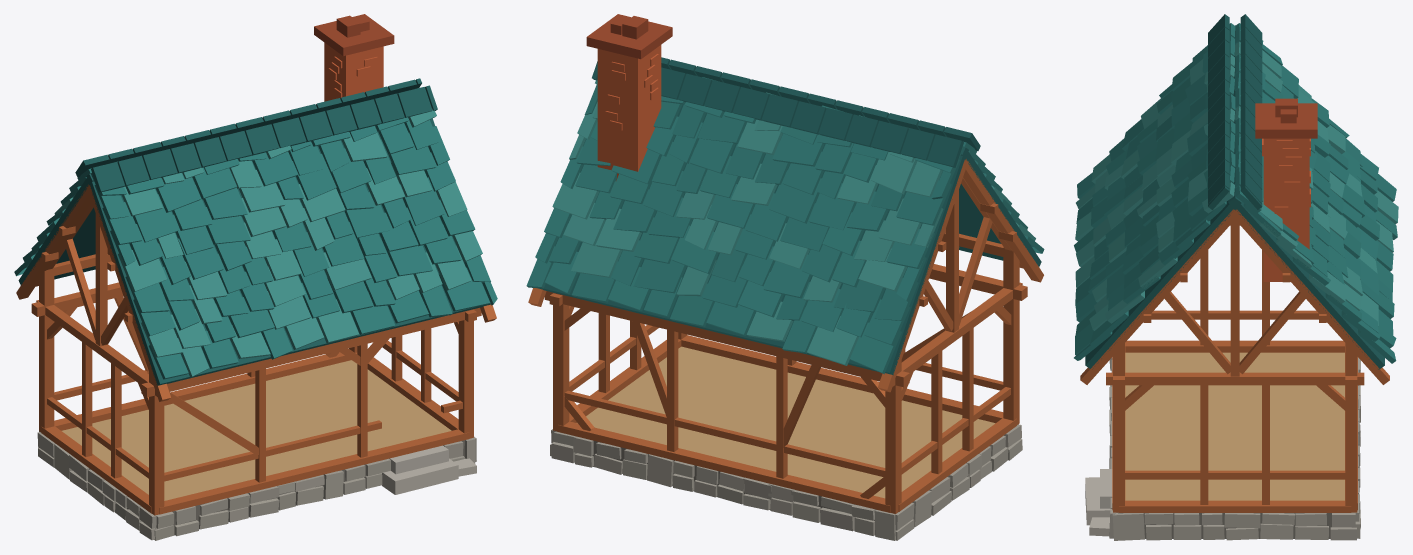
File: roof.glb
3 renders of one model, left to right at view 1: azimuth 30°, elevation 25°; view 2: azimuth 150°, elevation 25°; view 3: azimuth 270°, elevation 25°, orthographic. The views are drawn at different scales.
Parts seen in each view (by area): view 1: roof_shingles, timber_frame, roof_shingles_light, floor, roof_ridge, foundation_stones, roof_deck, barge_boards, door_step, chimney, chimney_cap; view 2: roof_shingles, timber_frame, floor, roof_shingles_light, foundation_stones, roof_ridge, chimney, roof_deck, barge_boards, chimney_cap; view 3: roof_shingles, floor, timber_frame, roof_shingles_light, roof_ridge, foundation_stones, chimney, roof_deck, barge_boards, chimney_cap, door_step, foundation_core.
Part boxes in pixels (x1,y1,x2,y2): roof_shingles: (14, 87, 497, 379); timber_frame: (31, 214, 481, 515); roof_shingles_light: (54, 109, 482, 377); floor: (62, 360, 451, 500); roof_ridge: (75, 78, 437, 192); foundation_stones: (37, 431, 476, 540); roof_deck: (18, 118, 490, 385); barge_boards: (16, 184, 496, 401); door_step: (382, 445, 476, 494); chimney: (324, 42, 383, 101); chimney_cap: (314, 14, 394, 55); roof_shingles: (526, 77, 1044, 374); timber_frame: (544, 190, 1027, 513); floor: (577, 346, 995, 498); roof_shingles_light: (552, 92, 1035, 365); foundation_stones: (550, 424, 1022, 540); roof_ridge: (592, 57, 980, 167); chimney: (597, 45, 661, 180); roof_deck: (538, 104, 1041, 375); barge_boards: (528, 159, 1043, 392); chimney_cap: (586, 14, 672, 59); roof_shingles: (1074, 23, 1397, 363); floor: (1125, 352, 1344, 500); timber_frame: (1106, 220, 1364, 512); roof_shingles_light: (1075, 41, 1398, 330); roof_ridge: (1208, 14, 1262, 209); foundation_stones: (1109, 357, 1360, 540); chimney: (1262, 138, 1310, 281); roof_deck: (1085, 25, 1384, 369); barge_boards: (1080, 209, 1389, 384); chimney_cap: (1255, 98, 1317, 138); door_step: (1085, 469, 1112, 536); foundation_core: (1116, 512, 1331, 538).
Size of the model in its own units: 7.76 by 8.48 by 6.02.
